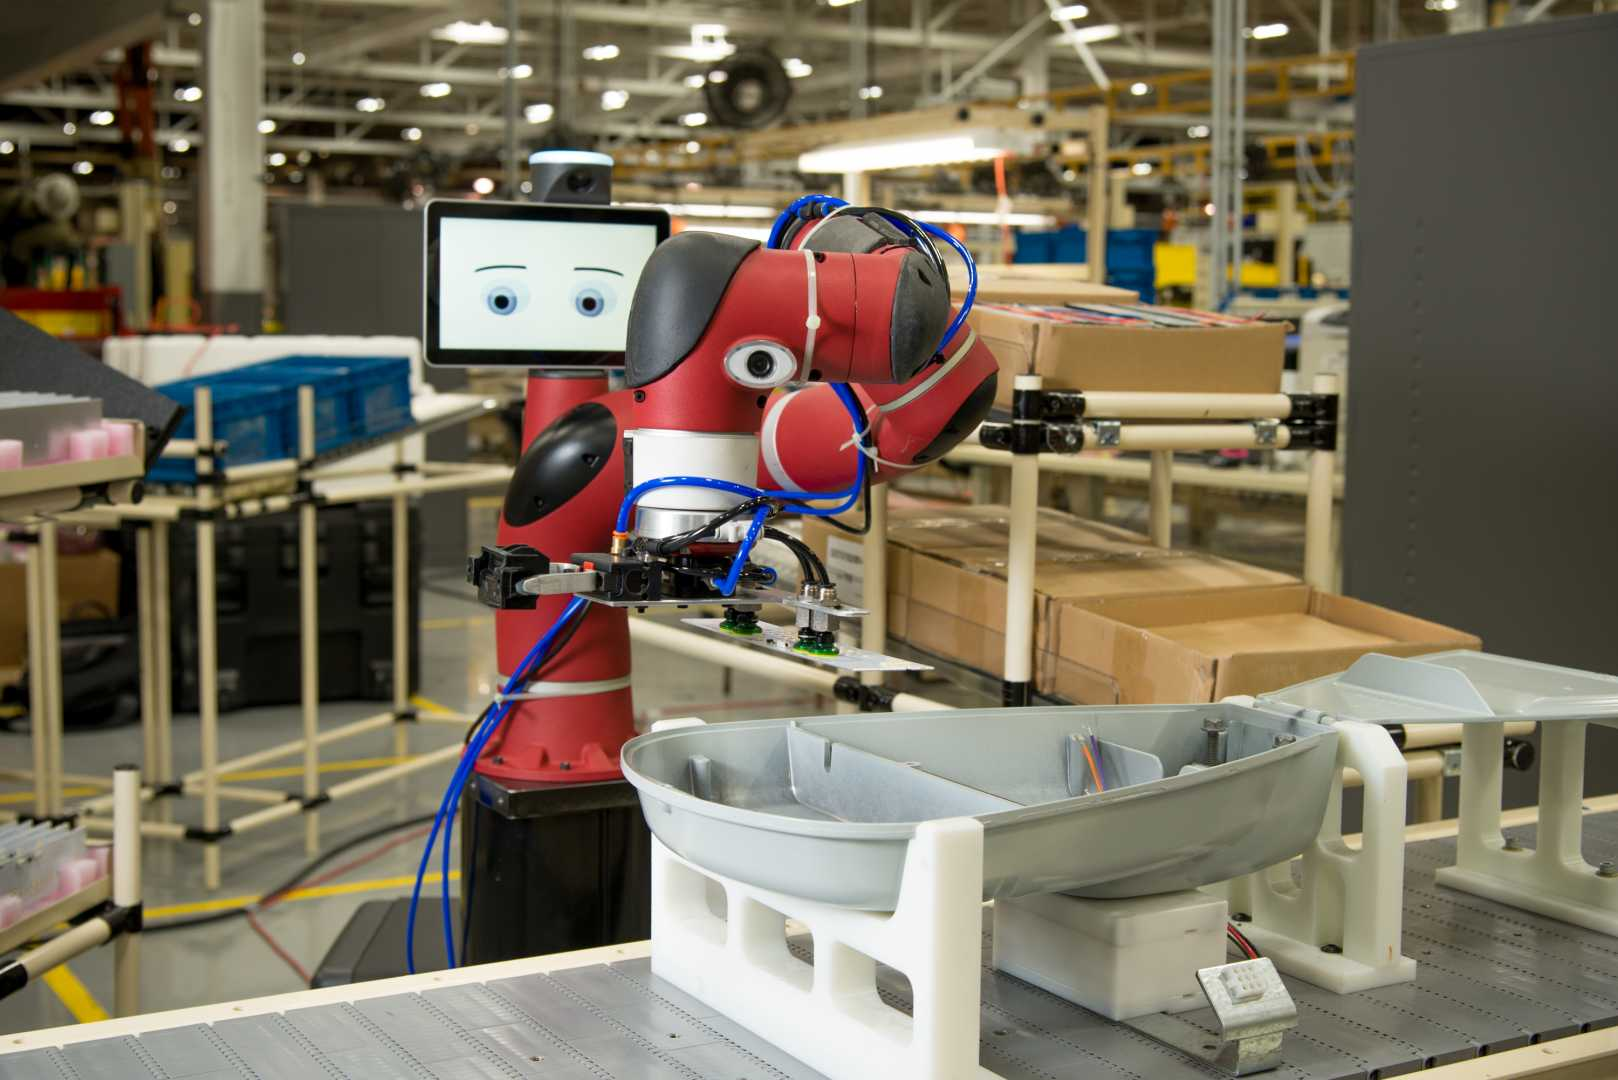robot: (420, 190, 1006, 788)
